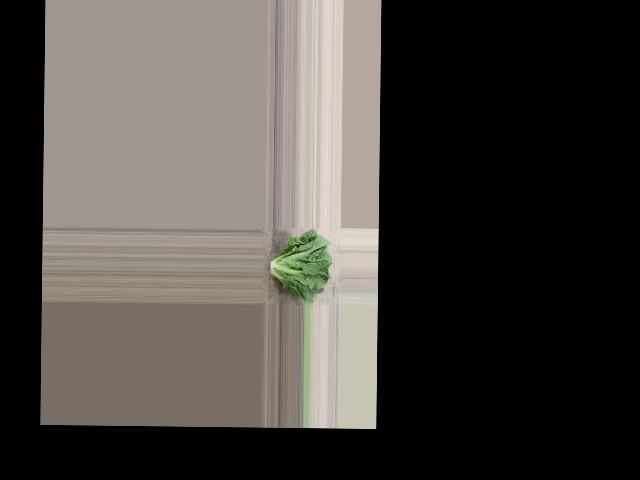lettuce: (264, 230, 334, 303)
